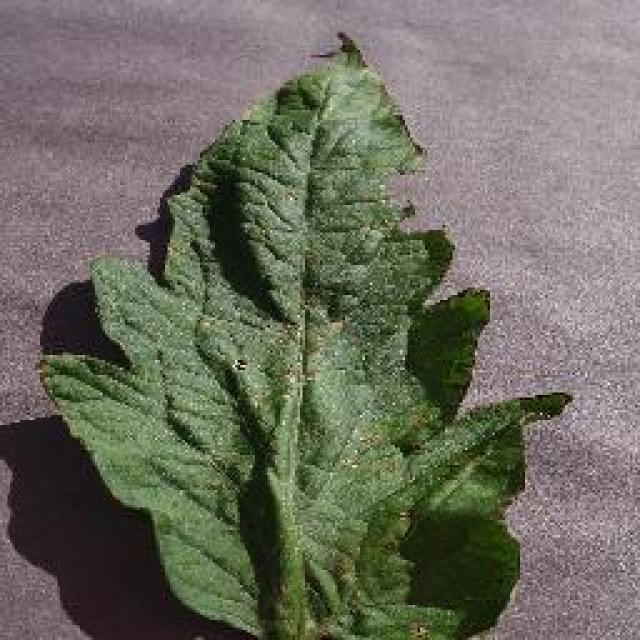Tomato Septoria spot leaf: (37, 30, 575, 640)
